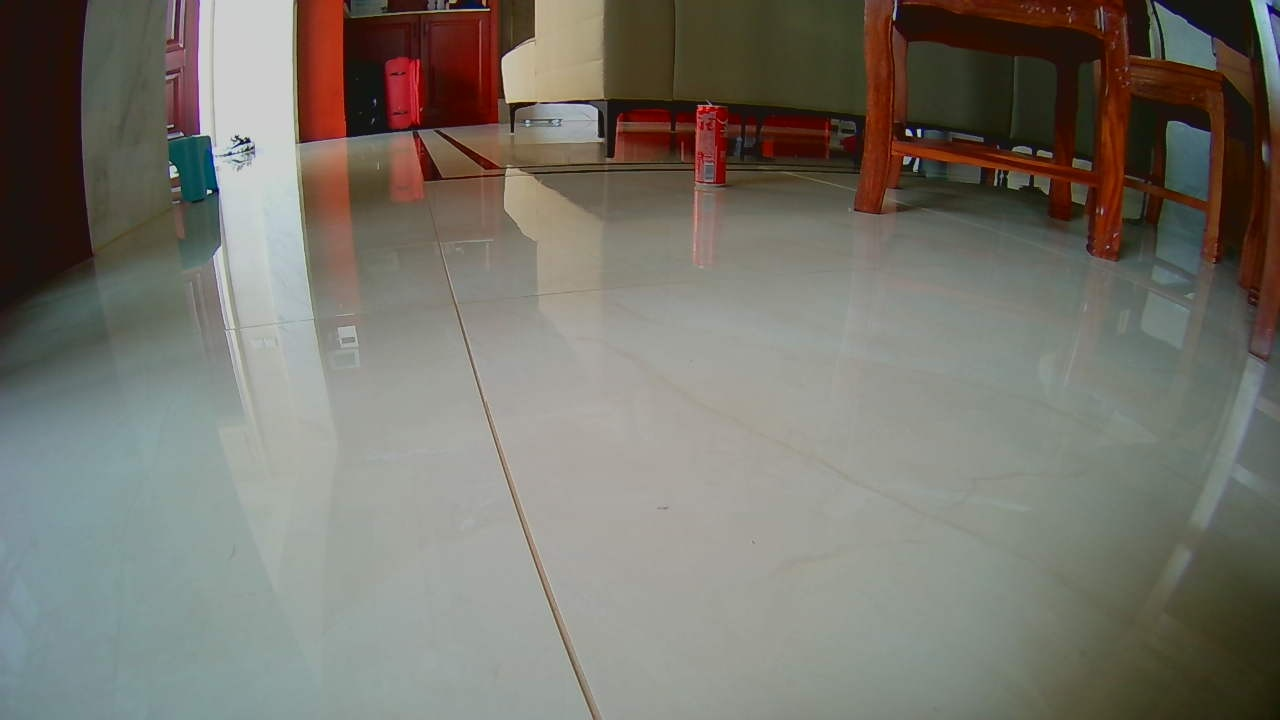cola: (693, 101, 731, 192)
